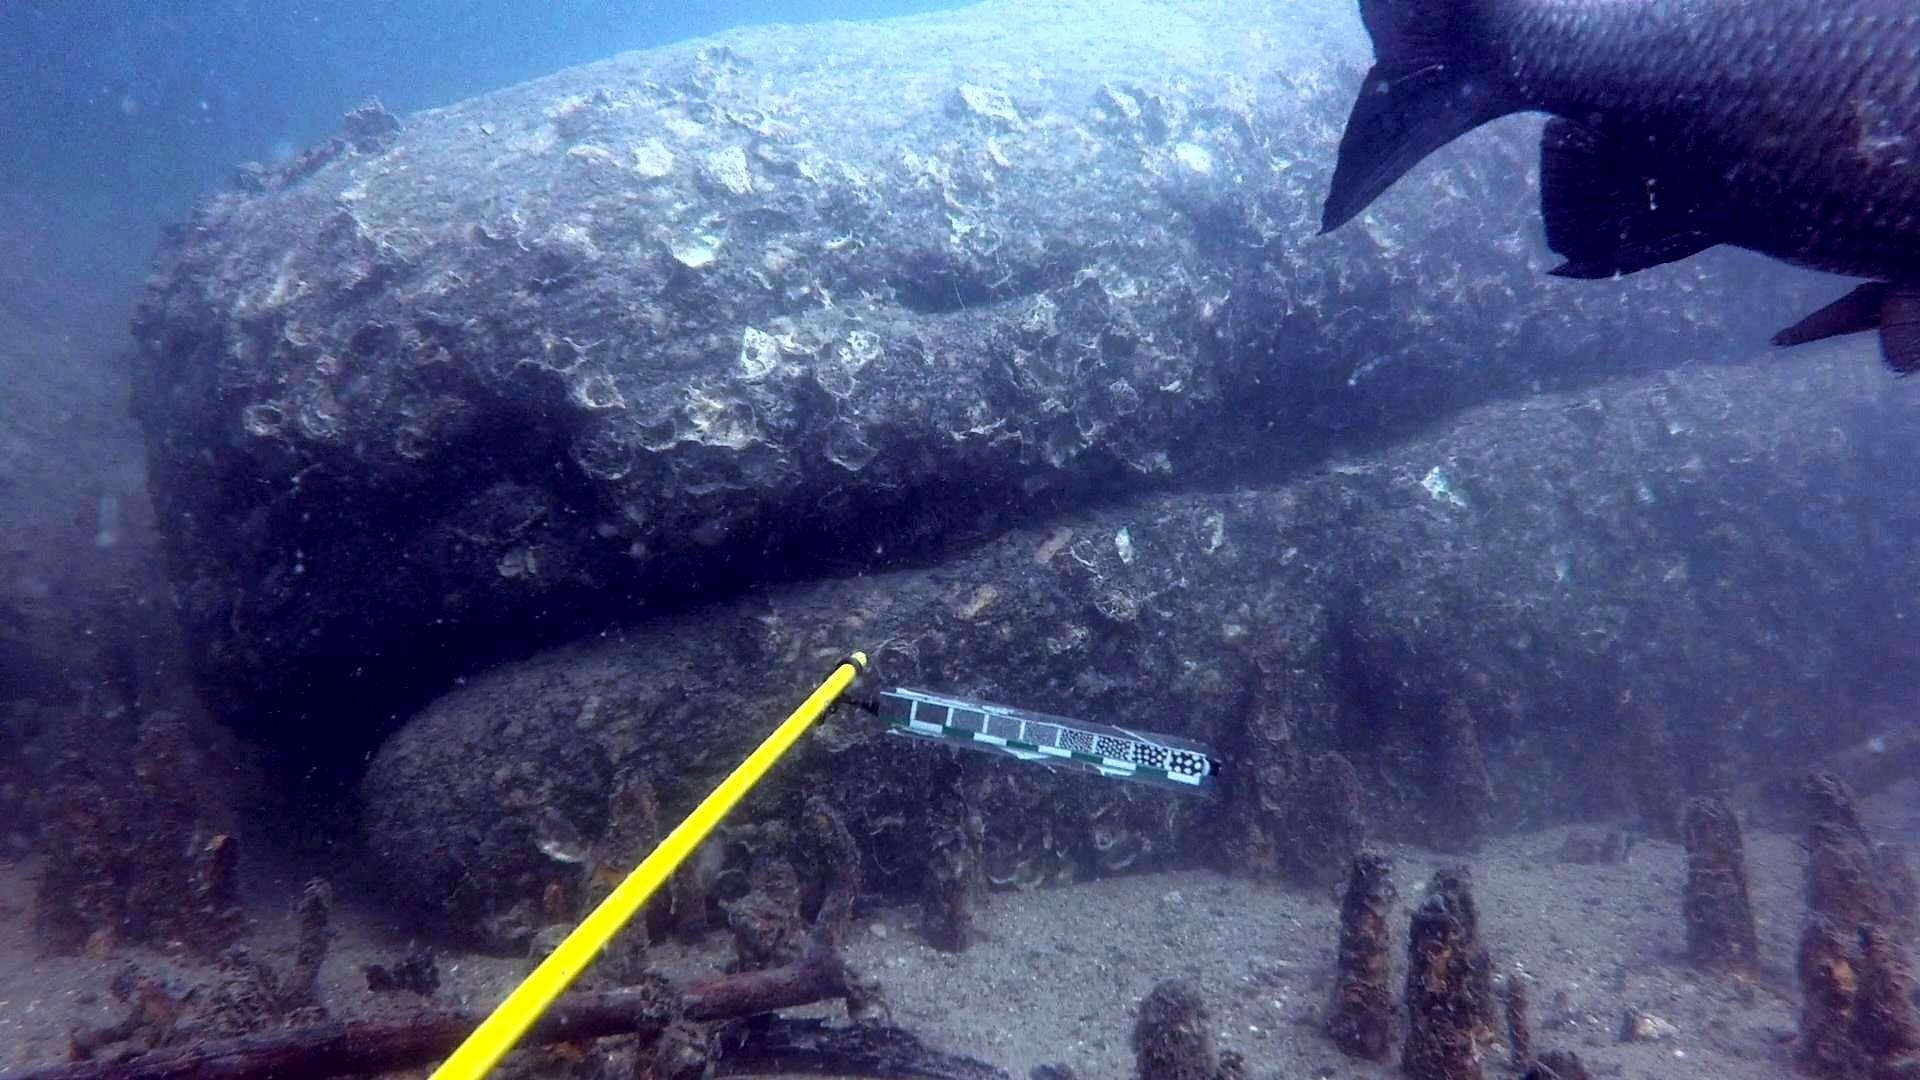acanthopagrus palmaris: (1317, 0, 1920, 388)
